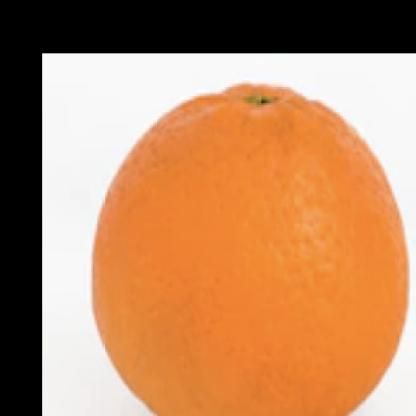rotten: (92, 79, 412, 416)
